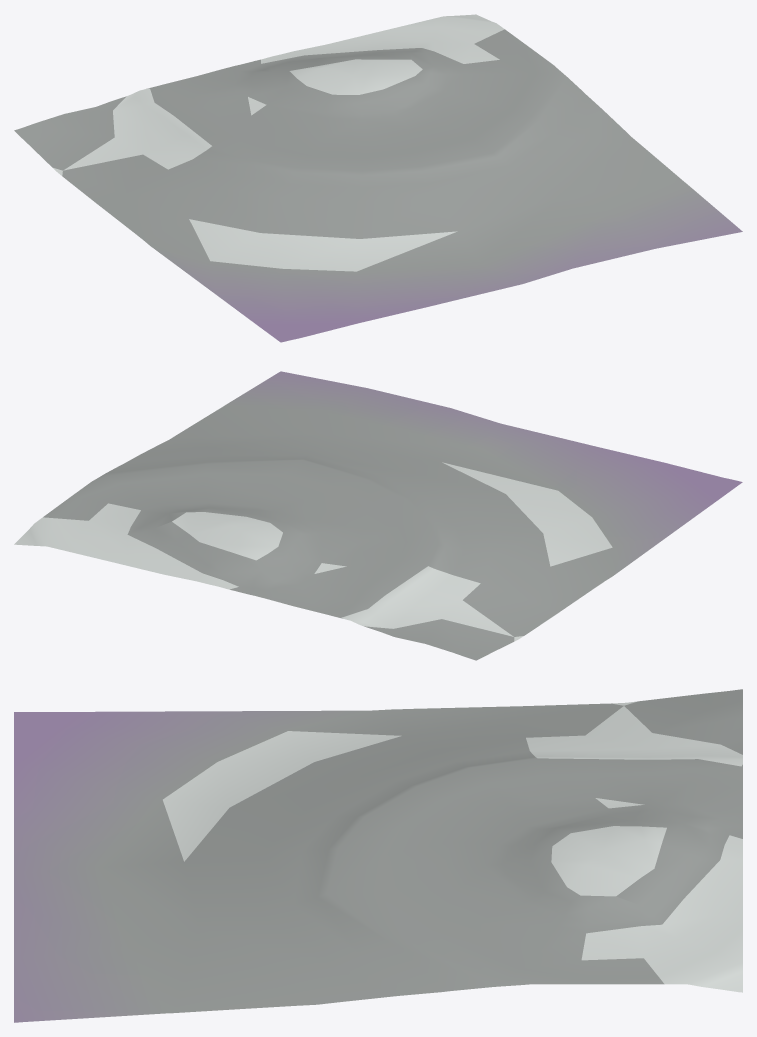
The picture shows the model from 3 angles, top to bottom: view 1: azimuth 30°, elevation 25°; view 2: azimuth 150°, elevation 25°; view 3: azimuth 270°, elevation 25°; orthographic projection. The views are drawn at different scales.
Visible parts, largest first — view 1: G:\FFXIV-MapTools\exports\m5f1\bg\ex4\02_mid_m5\fld\m5f1\bgp (×9); view 2: G:\FFXIV-MapTools\exports\m5f1\bg\ex4\02_mid_m5\fld\m5f1\bgp (×9); view 3: G:\FFXIV-MapTools\exports\m5f1\bg\ex4\02_mid_m5\fld\m5f1\bgp (×9).
Part boxes in pixels (x1,y1,x2,y2): G:\FFXIV-MapTools\exports\m5f1\bg\ex4\02_mid_m5\fld\m5f1\bgp (×9): (14,16,742,342); G:\FFXIV-MapTools\exports\m5f1\bg\ex4\02_mid_m5\fld\m5f1\bgp (×9): (29,371,742,660); G:\FFXIV-MapTools\exports\m5f1\bg\ex4\02_mid_m5\fld\m5f1\bgp (×9): (14,689,742,1022).
Bounding box in the file's own units: 128 × 10.87 × 128.
